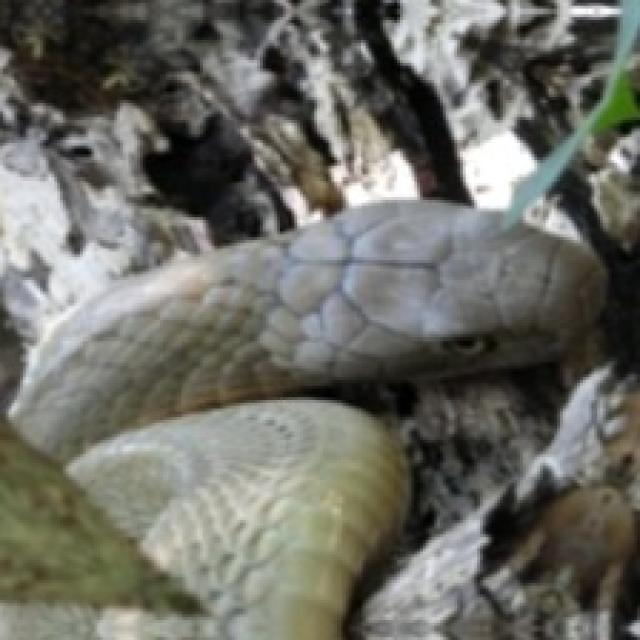king cobra: (9, 200, 603, 637)
